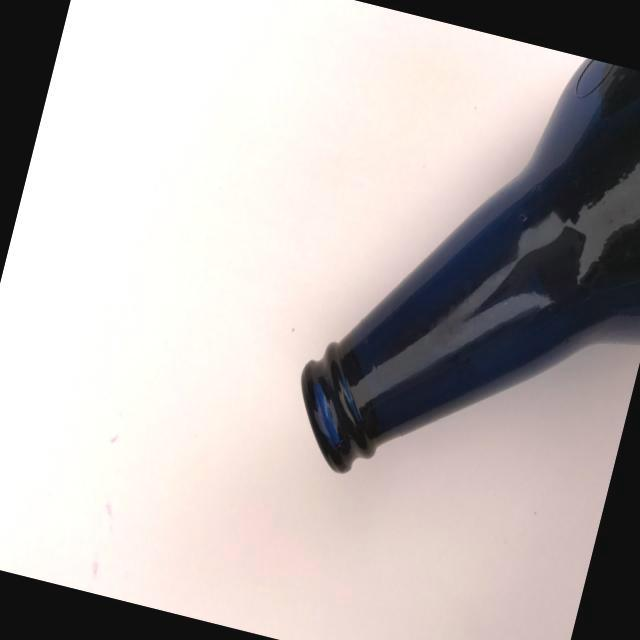glass: (254, 4, 640, 572)
